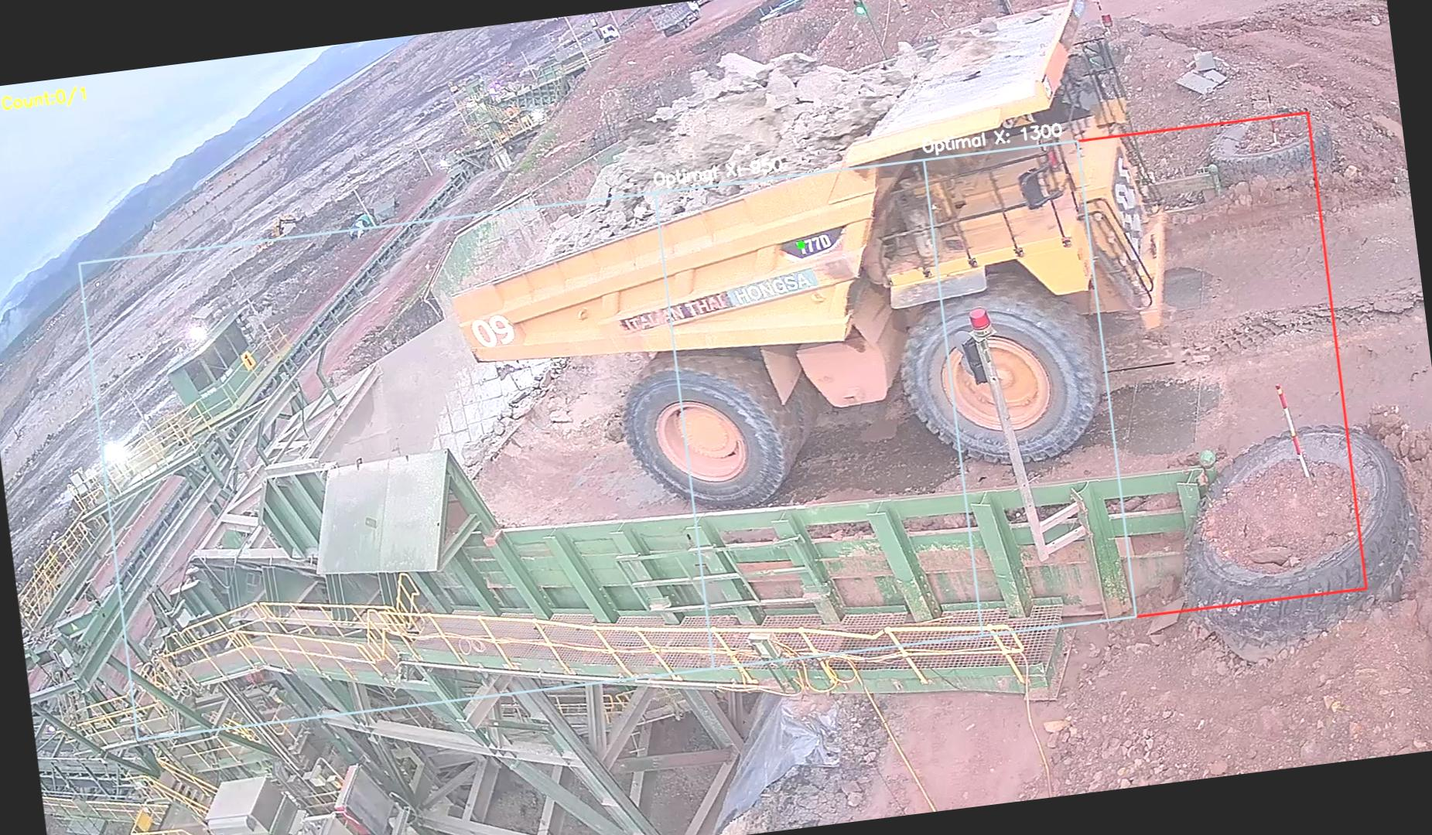company: (608, 267, 833, 336)
full_load: (602, 35, 876, 233)
mining_truck: (413, 0, 1228, 539)
tail_number: (456, 295, 529, 361)
truck_size: (771, 223, 854, 264)
